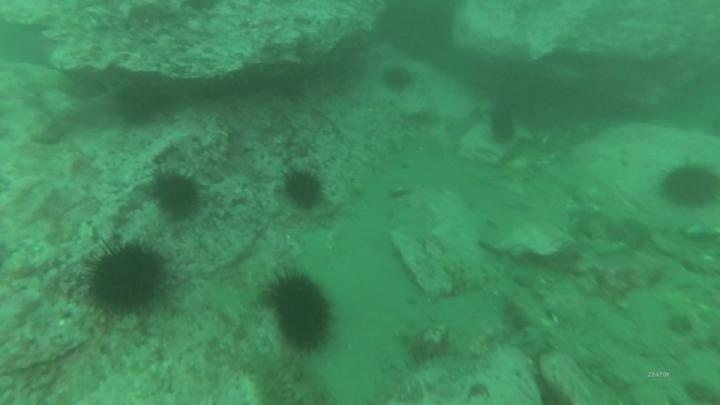echinus: (84, 237, 171, 318), (262, 268, 339, 354), (658, 160, 719, 211), (148, 166, 204, 221), (112, 81, 167, 128), (281, 166, 326, 211), (485, 103, 519, 146), (379, 63, 416, 95)
holothurian: (255, 357, 334, 405), (435, 257, 502, 298)
